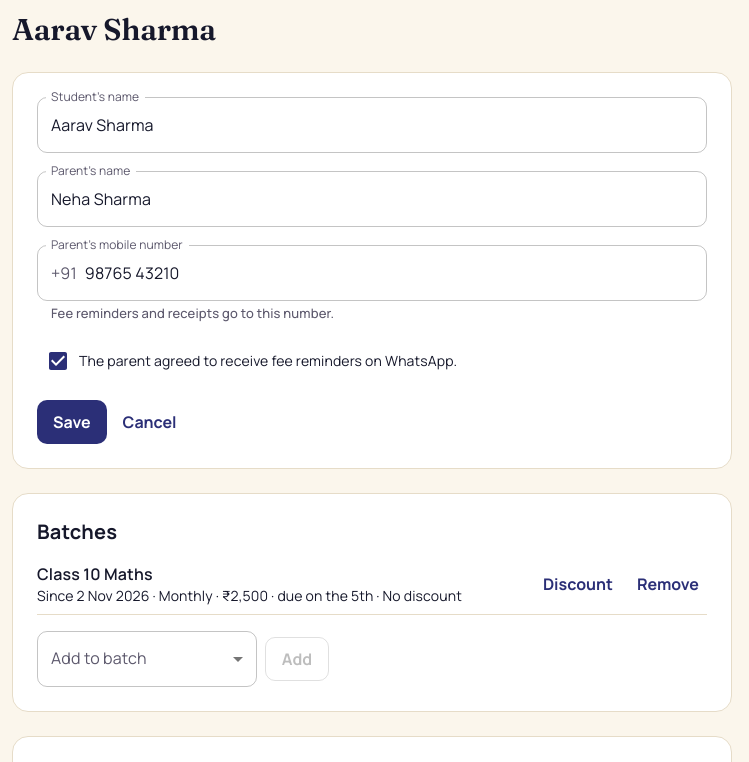
StudentDetail › gives the student a discount on a batch's fee
Check: the heading "Aarav Sharma" is shown, box [12,12,216,48]
Click the button with aria-label "Discount on Class 10 Maths" at (578, 584), box [535,562,621,606]
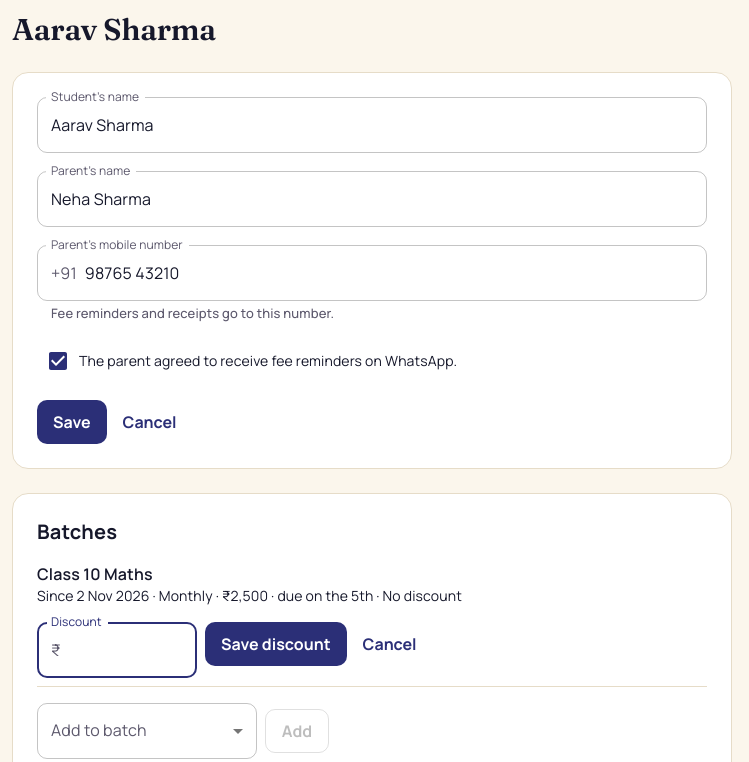
Type "250" into the field labelled "Discount" at (133, 650), box [69,622,197,678]
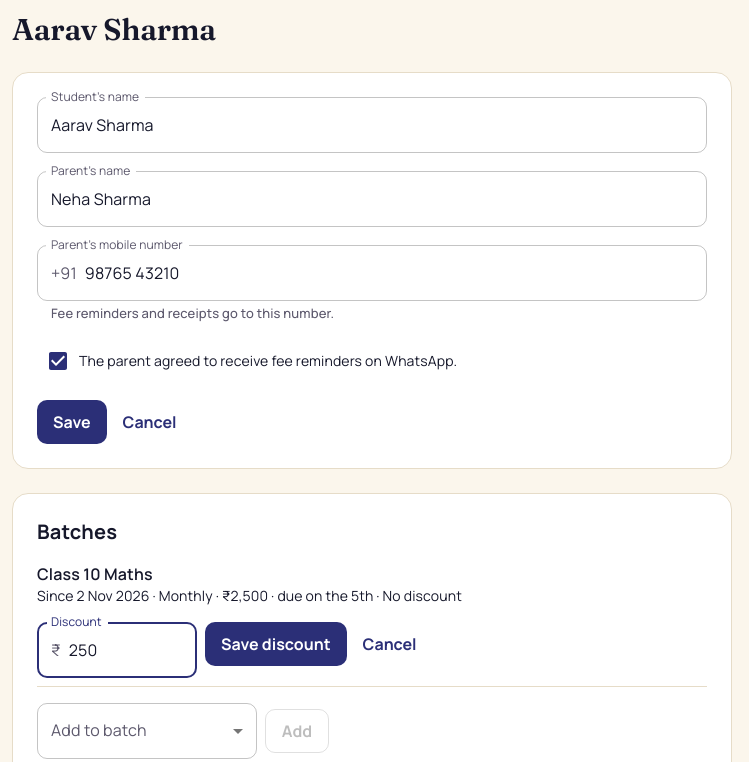
Click the button "Save discount" at (276, 644), box [205,622,347,666]
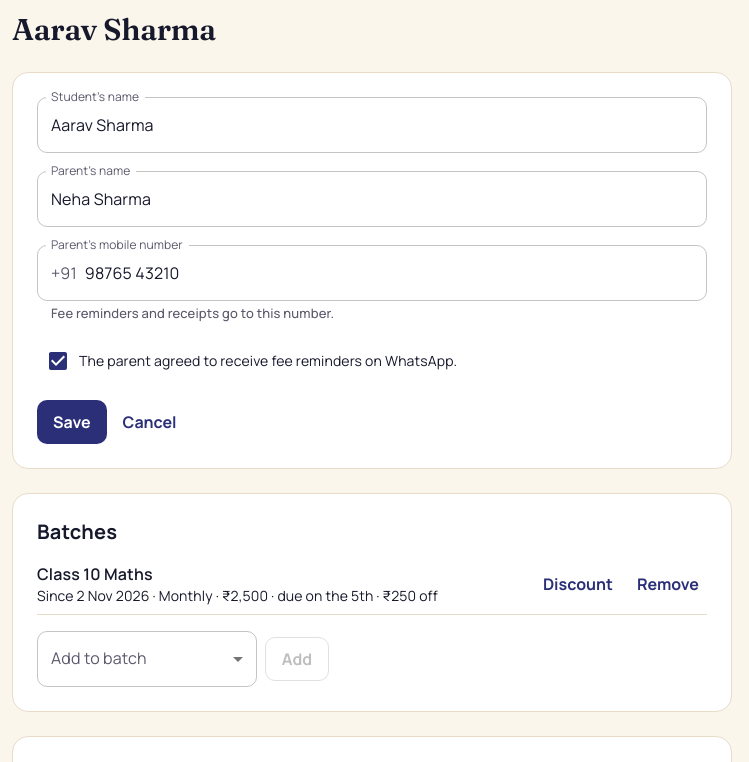
Check: the text "₹250 off" is shown, box [37,586,438,605]
